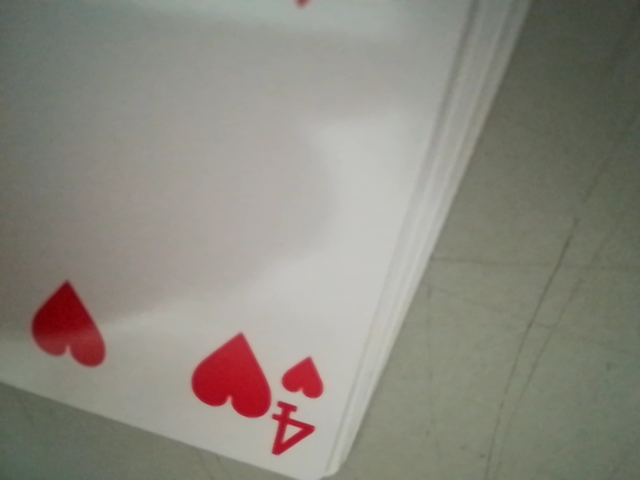hx 4: (271, 355, 325, 456)
